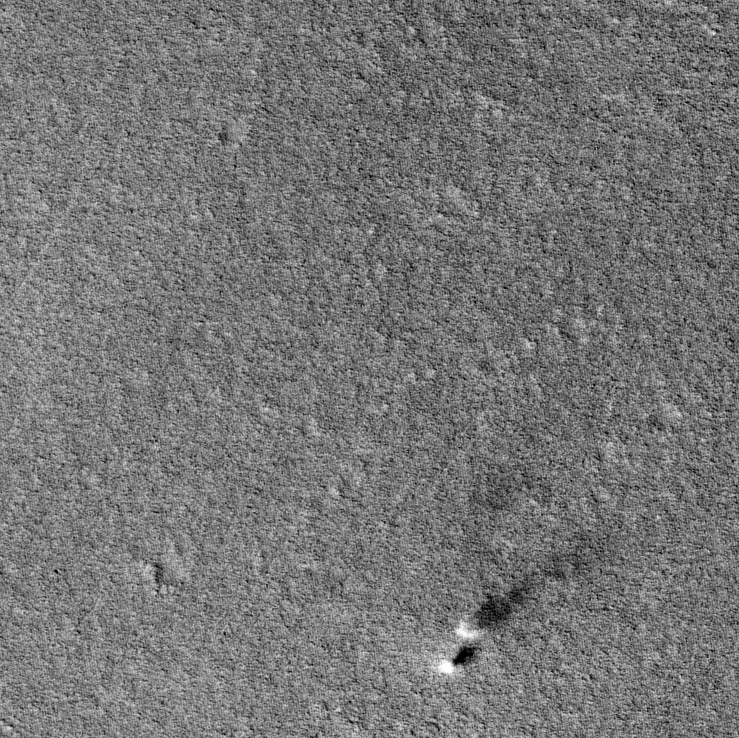dust_devil: (456, 551, 588, 638), (437, 641, 483, 674)
